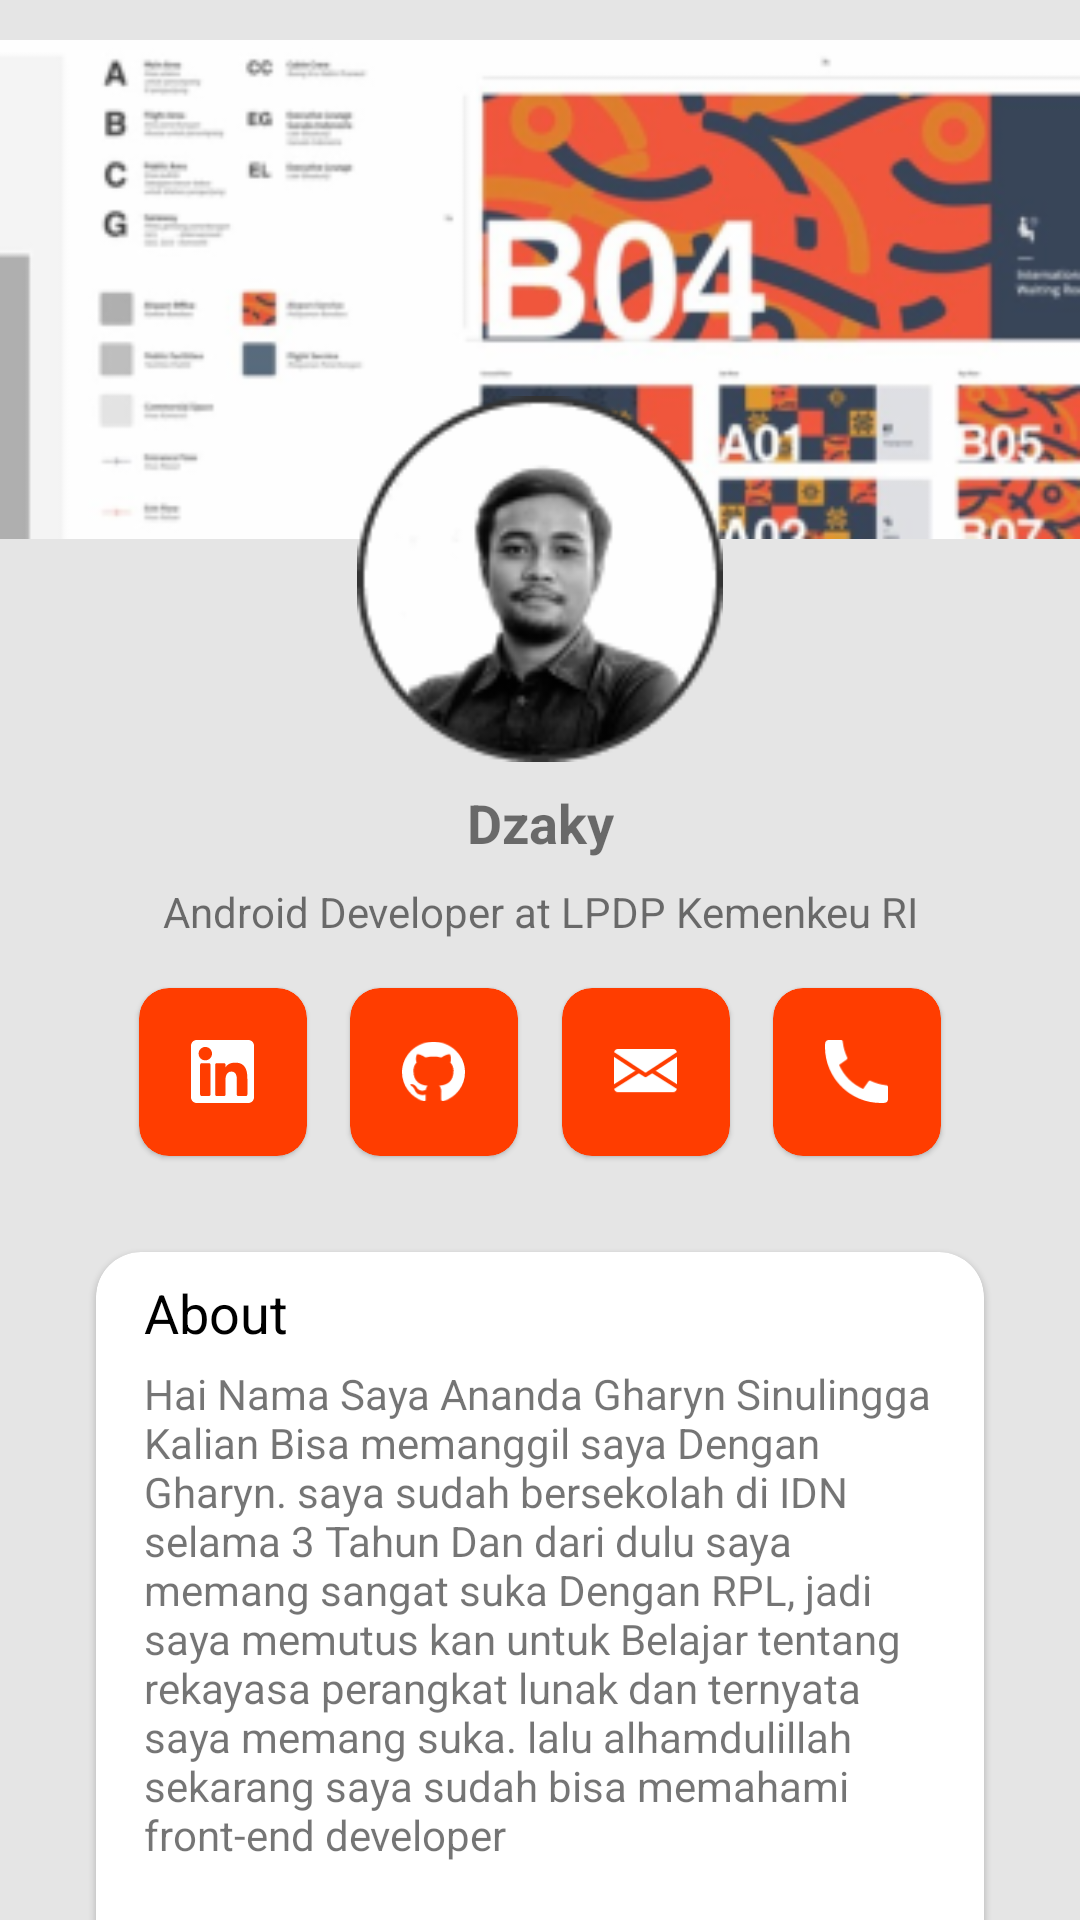

Named icons in this screenshot (1080*1920) and their bounding boxes, (x1,y1,x2,y2):
mail: (614,1049,677,1093)
phone: (825,1040,888,1103)
